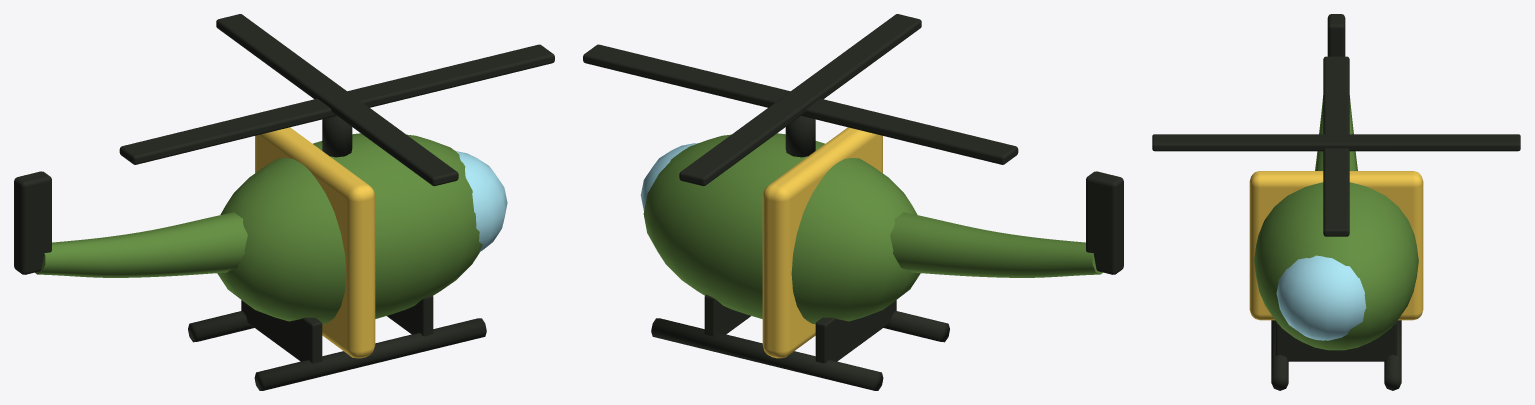
Rendered from helicopter.glb.
The picture shows the model from 3 angles, left to right: view 1: azimuth 30°, elevation 25°; view 2: azimuth 150°, elevation 25°; view 3: azimuth 270°, elevation 25°; orthographic projection. The views are drawn at different scales.
Parts seen in each view (by area): view 1: cabin, band, tail, Blade, BladeB, skidR, fin, nose, strutB, skidL, strutA, rotorMast; view 2: cabin, band, tail, Blade, BladeB, skidL, fin, strutB, skidR, strutA, rotorMast, nose; view 3: cabin, band, BladeB, nose, Blade, strutA, fin, skidL, skidR, tail.
Part boxes in pixels (x1=…): cabin: x1=217, y1=133, x2=482, y2=324; band: x1=255, y1=127, x2=375, y2=358; tail: x1=35, y1=212, x2=247, y2=277; Blade: x1=119, y1=44, x2=554, y2=164; BladeB: x1=216, y1=14, x2=458, y2=186; skidR: x1=254, y1=318, x2=486, y2=390; fin: x1=14, y1=171, x2=51, y2=274; nose: x1=456, y1=151, x2=507, y2=252; strutB: x1=241, y1=300, x2=322, y2=363; skidL: x1=188, y1=311, x2=254, y2=342; strutA: x1=387, y1=294, x2=433, y2=336; rotorMast: x1=322, y1=116, x2=352, y2=157; cabin: x1=643, y1=133, x2=920, y2=324; band: x1=762, y1=127, x2=882, y2=358; tail: x1=890, y1=212, x2=1102, y2=277; Blade: x1=583, y1=44, x2=1018, y2=164; BladeB: x1=679, y1=14, x2=921, y2=186; skidL: x1=651, y1=318, x2=883, y2=390; fin: x1=1086, y1=171, x2=1123, y2=274; strutB: x1=815, y1=300, x2=896, y2=363; skidR: x1=883, y1=311, x2=949, y2=342; strutA: x1=704, y1=294, x2=750, y2=336; rotorMast: x1=785, y1=116, x2=815, y2=157; nose: x1=640, y1=143, x2=698, y2=210; cabin: x1=1254, y1=182, x2=1418, y2=350; band: x1=1249, y1=171, x2=1423, y2=320; BladeB: x1=1152, y1=134, x2=1520, y2=151; nose: x1=1276, y1=255, x2=1366, y2=340; Blade: x1=1323, y1=56, x2=1349, y2=236; strutA: x1=1275, y1=321, x2=1397, y2=361; fin: x1=1327, y1=14, x2=1345, y2=56; skidL: x1=1384, y1=320, x2=1401, y2=390; skidR: x1=1271, y1=320, x2=1288, y2=390; tail: x1=1315, y1=95, x2=1357, y2=170.
Bounding box in the file's own units: 2.39 × 1.05 × 1.7.
